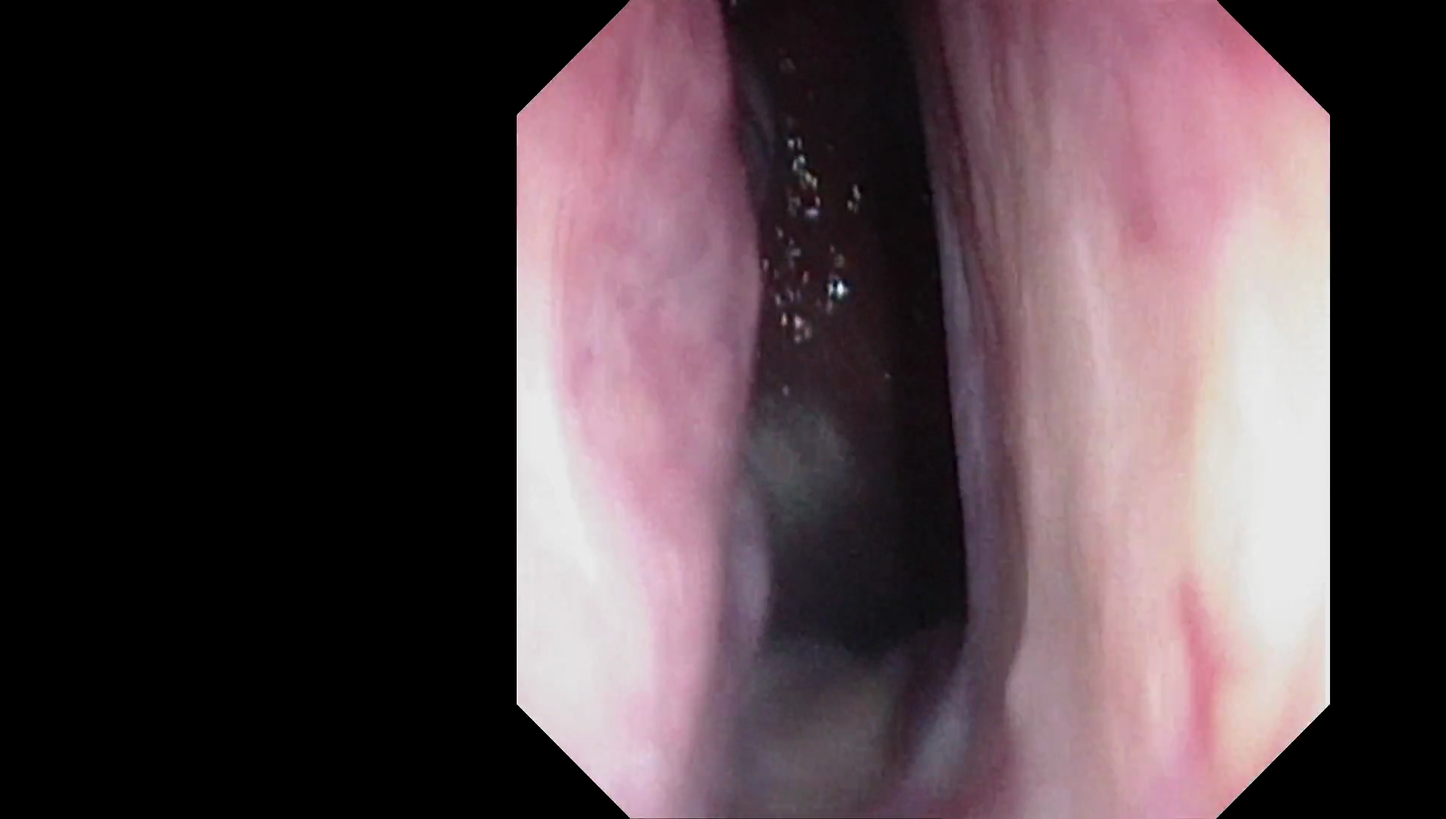close_wall: (1050, 157, 1323, 702), (521, 214, 767, 699)
next: (722, 230, 1011, 698)
